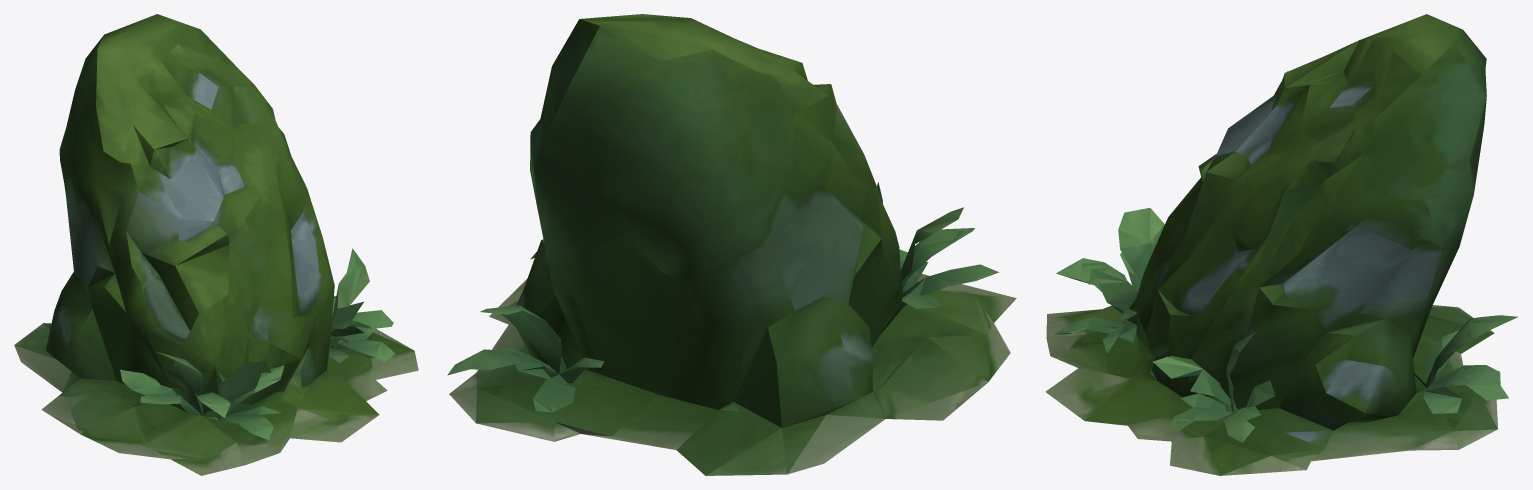
3 renders of one model, left to right at view 1: azimuth 30°, elevation 25°; view 2: azimuth 150°, elevation 25°; view 3: azimuth 270°, elevation 25°, orthographic. The views are drawn at different scales.
Parts seen in each view (by area): view 1: mossy_boulder; view 2: mossy_boulder; view 3: mossy_boulder.
Boxes of the visible parts, bbox=[...] form: mossy_boulder: bbox=[14, 14, 418, 475]; mossy_boulder: bbox=[447, 14, 1016, 475]; mossy_boulder: bbox=[1045, 14, 1517, 475].
Size of the model in its own units: 0.9211 by 0.7803 by 0.9637.
Materials: 1 (1 with a texture image).
